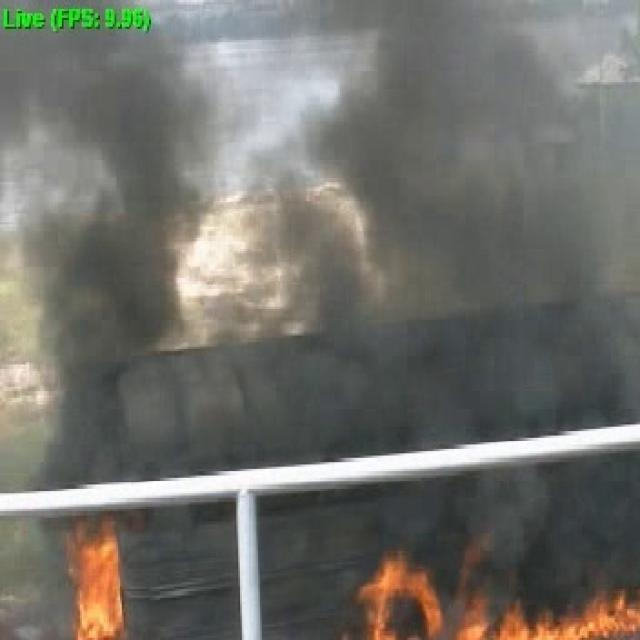Fire: (364, 566, 640, 640), (70, 522, 122, 637)
Smoke: (338, 12, 622, 544), (19, 11, 180, 529)
